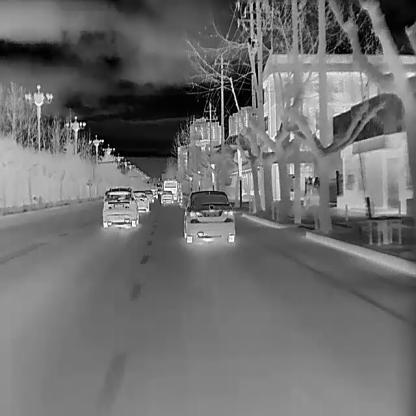car: (182, 190, 235, 243), (102, 187, 139, 228), (132, 189, 149, 213), (163, 179, 178, 200), (160, 190, 173, 205), (144, 189, 154, 203)
